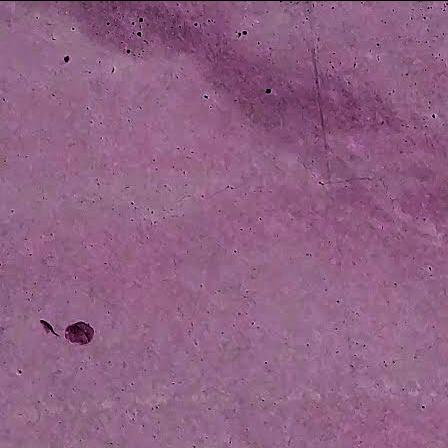spalling: (57, 313, 99, 353)
